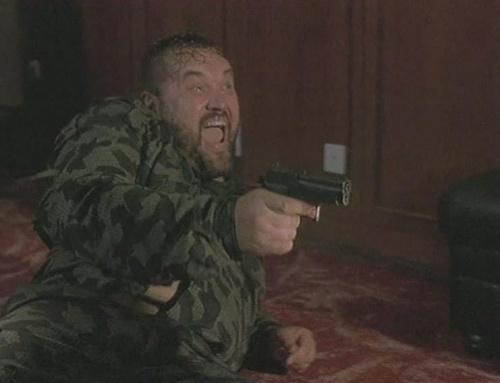Gun: (261, 167, 352, 209)
